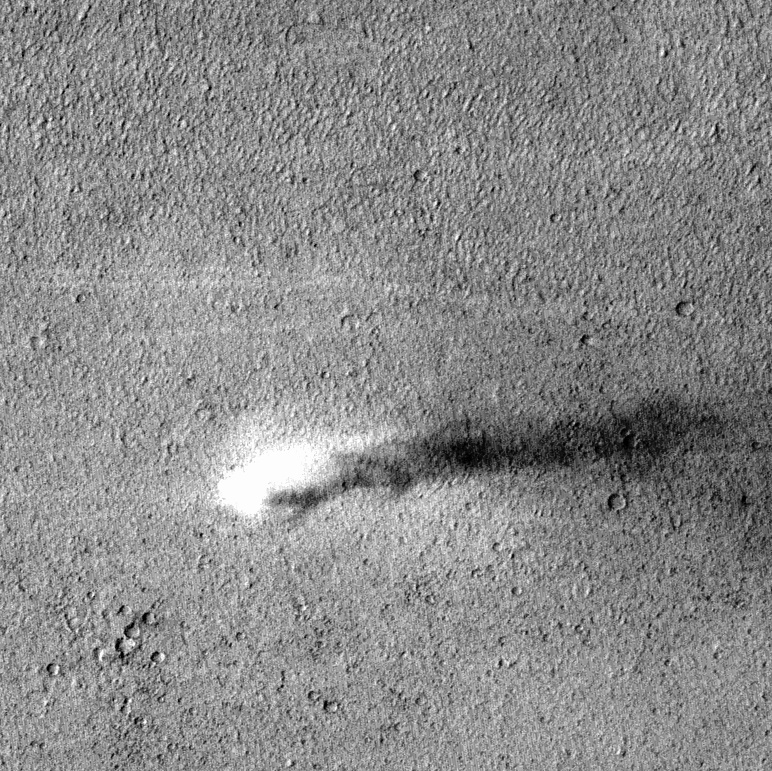dust_devil: (209, 383, 762, 531)
